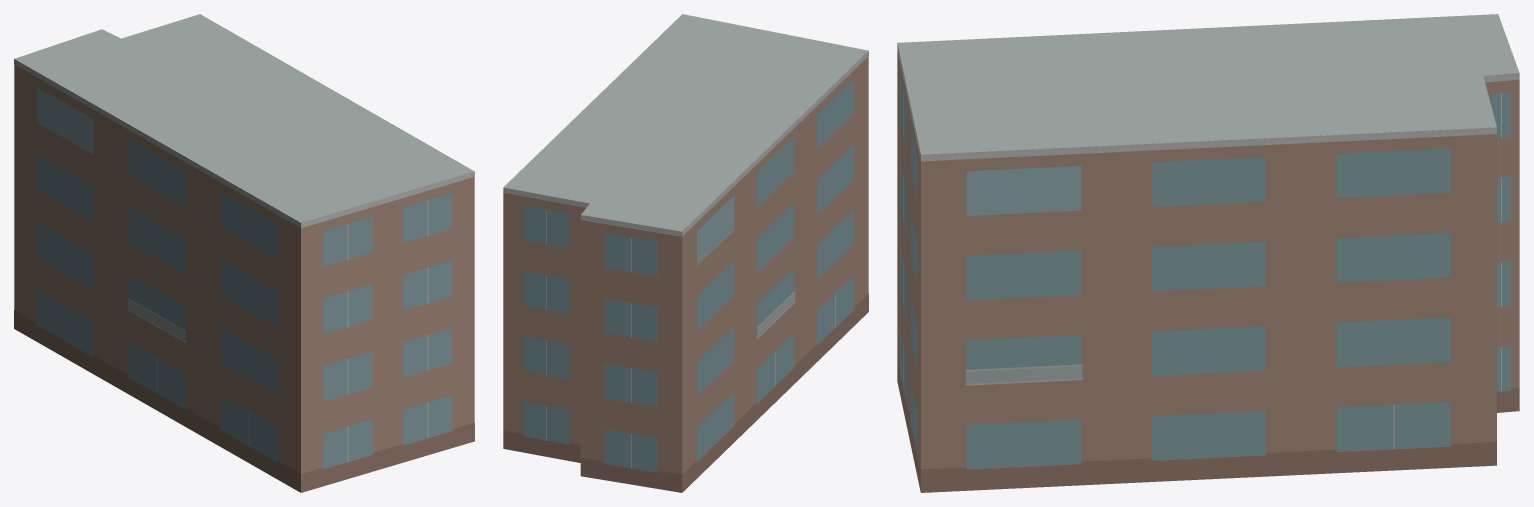
File: survey-upis-32655267.glb
3 renders of one model, left to right at view 1: azimuth 30°, elevation 25°; view 2: azimuth 150°, elevation 25°; view 3: azimuth 270°, elevation 25°, orthographic. The views are drawn at different scales.
Visible parts, largest first — view 1: survey-upis-32655267.tmp; view 2: survey-upis-32655267.tmp; view 3: survey-upis-32655267.tmp.
Part boxes in pixels (left/top/right/bottom): survey-upis-32655267.tmp: left=14, top=14, right=474, bottom=492; survey-upis-32655267.tmp: left=503, top=14, right=868, bottom=492; survey-upis-32655267.tmp: left=897, top=14, right=1519, bottom=492.
Size of the model in its own units: 10.9 by 12.2 by 20.35.
